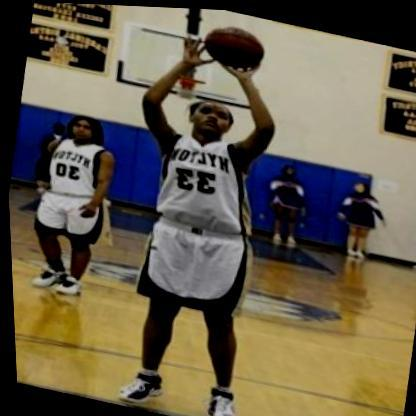basketball: (190, 11, 270, 79)
